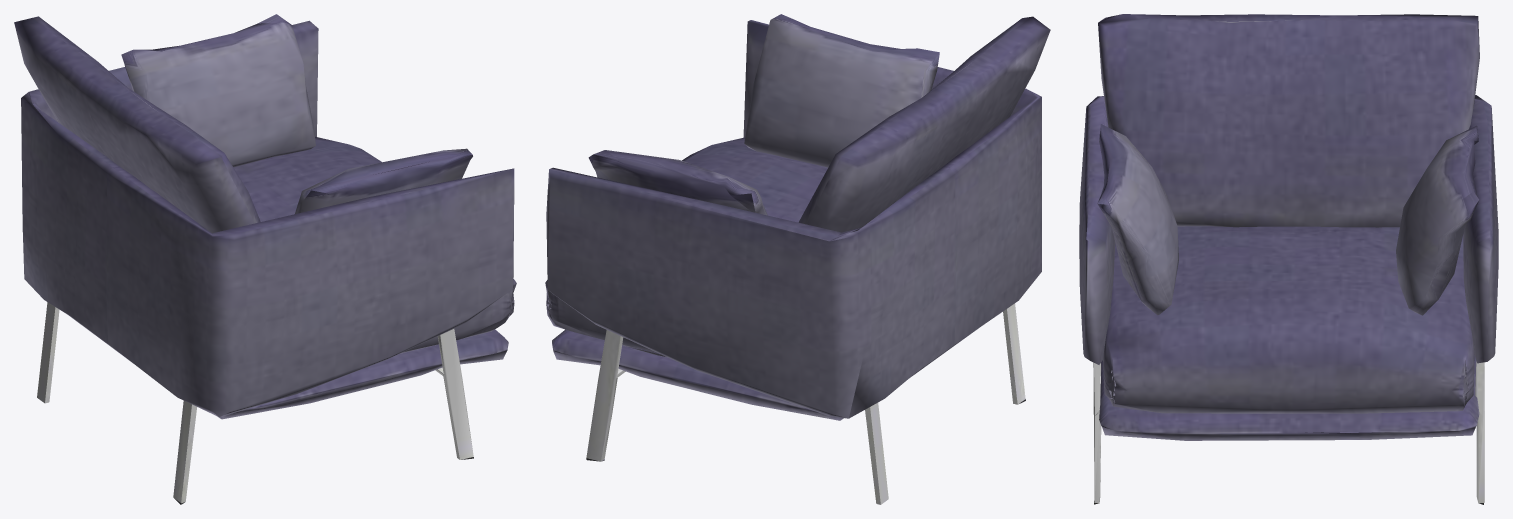
The model's file is S_Sofa0006.obj.
The picture shows the model from 3 angles, left to right: view 1: azimuth 30°, elevation 25°; view 2: azimuth 150°, elevation 25°; view 3: azimuth 270°, elevation 25°; orthographic projection.
Bounding box in the file's own units: 0.655 × 0.686 × 0.718.
1 material, 1 textured.
